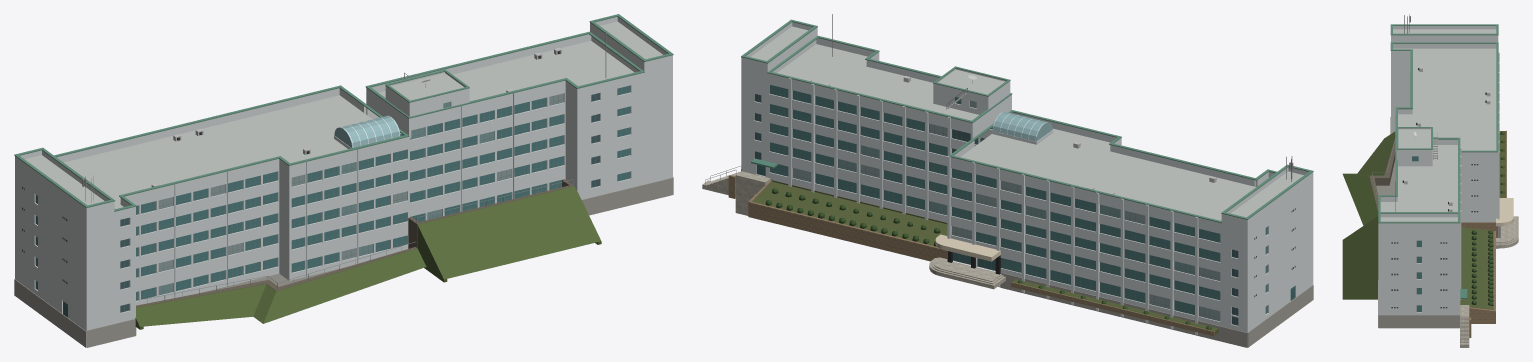
3 renders of one model, left to right at view 1: azimuth 30°, elevation 25°; view 2: azimuth 150°, elevation 25°; view 3: azimuth 270°, elevation 25°, orthographic. The views are drawn at different scales.
Parts seen in each view (by area): view 1: w451565823__paint-wall, w451565823__roof, w451565823__berm-lawn, w451565823__glass, w451565823__frame, w451565823__coping, w451565823__base-wall, w451565823__gabion-stone, w451565823__vault-glass, w451565823__curtain-glass, w451565823__blind-glass, w451565823__pipe (+2 smaller); view 2: w451565823__paint-wall, w451565823__roof, w451565823__glass, w451565823__frame, w451565823__planter-lawn, w451565823__coping, w451565823__flag-stone, w451565823__base-wall, w451565823__step-stone, w451565823__curtain-glass, w451565823__shrub-leaf, w451565823__vault-glass (+4 smaller); view 3: w451565823__paint-wall, w451565823__roof, w451565823__berm-lawn, w451565823__coping, w451565823__planter-lawn, w451565823__base-wall, w451565823__flag-stone, w451565823__step-stone, w451565823__shrub-leaf, w451565823__gabion-stone, w451565823__canopy, w451565823__trench-paving (+3 smaller).
Part boxes in pixels (x1,y1,x2,y2): w451565823__paint-wall: (15,17,672,347); w451565823__roof: (25,21,662,208); w451565823__berm-lawn: (135,186,601,329); w451565823__glass: (35,85,630,300); w451565823__frame: (36,85,630,317); w451565823__coping: (14,14,673,211); w451565823__base-wall: (14,177,673,347); w451565823__gabion-stone: (136,179,573,307); w451565823__vault-glass: (334,116,400,147); w451565823__curtain-glass: (158,93,563,271); w451565823__blind-glass: (158,102,494,294); w451565823__pipe: (174,93,514,297); w451565823__paint-wall: (741,22,1313,335); w451565823__roof: (751,26,1303,220); w451565823__glass: (770,85,1267,314); w451565823__frame: (754,85,1295,325); w451565823__planter-lawn: (752,180,1218,334); w451565823__coping: (741,19,1313,223); w451565823__flag-stone: (728,175,1214,336); w451565823__base-wall: (741,169,1313,347); w451565823__step-stone: (702,171,1005,289); w451565823__curtain-glass: (792,100,1220,320); w451565823__shrub-leaf: (765,188,1211,329); w451565823__vault-glass: (992,112,1052,141); w451565823__paint-wall: (1378,26,1499,327); w451565823__roof: (1380,29,1496,221); w451565823__berm-lawn: (1342,131,1395,299); w451565823__coping: (1378,24,1498,223); w451565823__planter-lawn: (1460,131,1505,309); w451565823__base-wall: (1378,117,1459,328); w451565823__flag-stone: (1461,130,1506,337); w451565823__step-stone: (1460,216,1518,347); w451565823__shrub-leaf: (1471,132,1504,305); w451565823__gabion-stone: (1369,138,1395,212); w451565823__canopy: (1496,198,1513,226); w451565823__trench-paving: (1376,160,1395,195).
Bounding box in the file's own units: 111 × 33.5 × 36.62.
32 materials, 3 textured.
